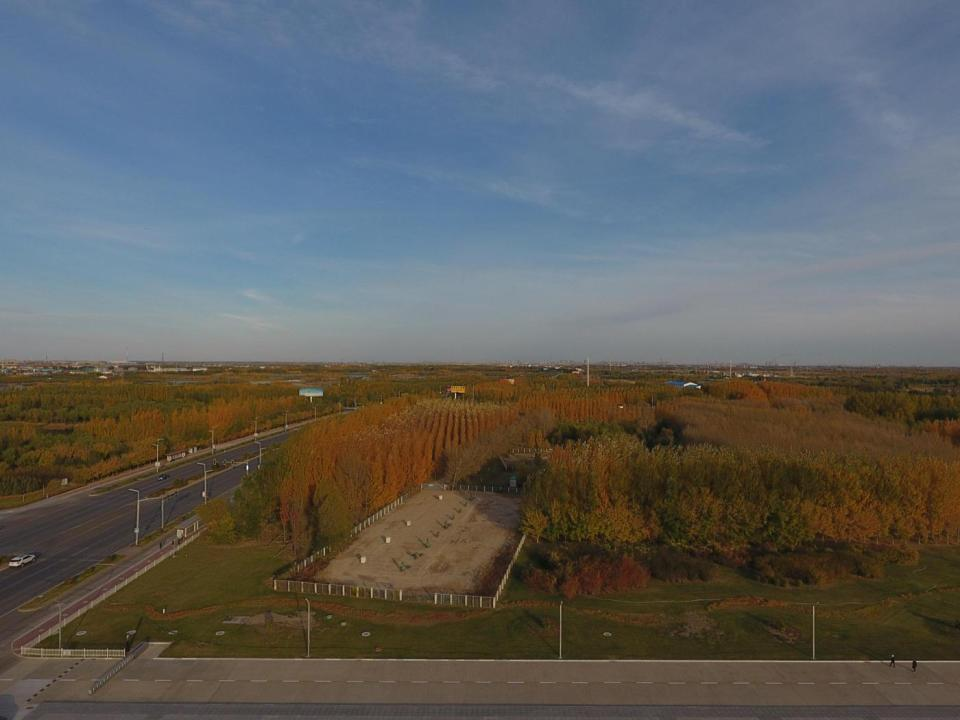car: (8, 552, 36, 568), (156, 472, 170, 481)
